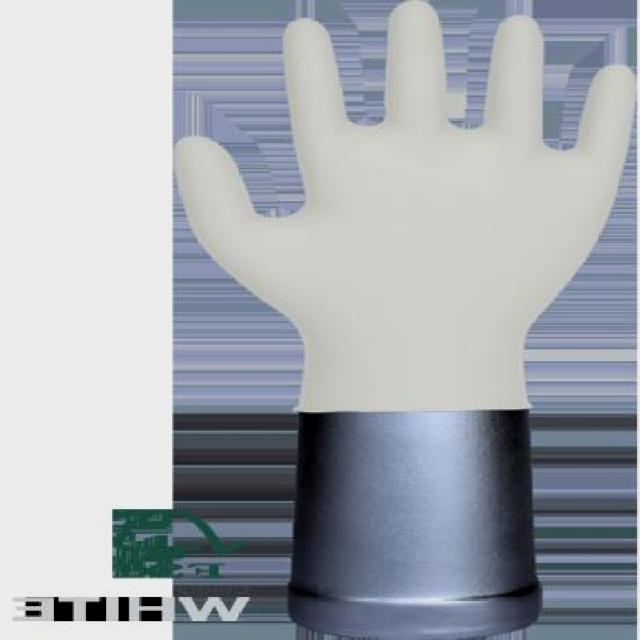glove: (80, 0, 633, 412)
